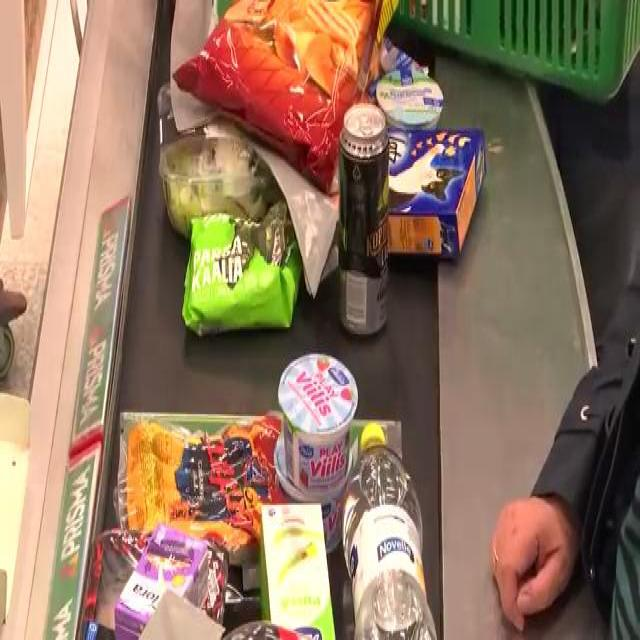beverage: (340, 423, 432, 640), (338, 101, 395, 335)
food-box: (188, 0, 392, 135), (116, 404, 282, 545), (160, 75, 284, 228), (177, 204, 310, 326), (84, 531, 234, 637), (376, 115, 479, 253), (248, 492, 338, 640), (280, 350, 360, 482), (275, 427, 356, 553), (119, 531, 211, 640), (378, 67, 444, 129)
